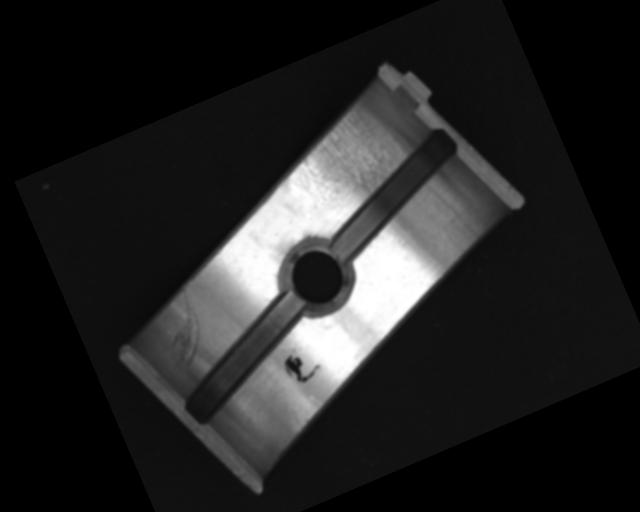blot: (280, 344, 325, 389)
gap: (304, 121, 485, 264), (157, 286, 334, 430)
hole: (272, 233, 362, 323)
nick: (147, 286, 216, 376)
scratch: (267, 100, 399, 221)
